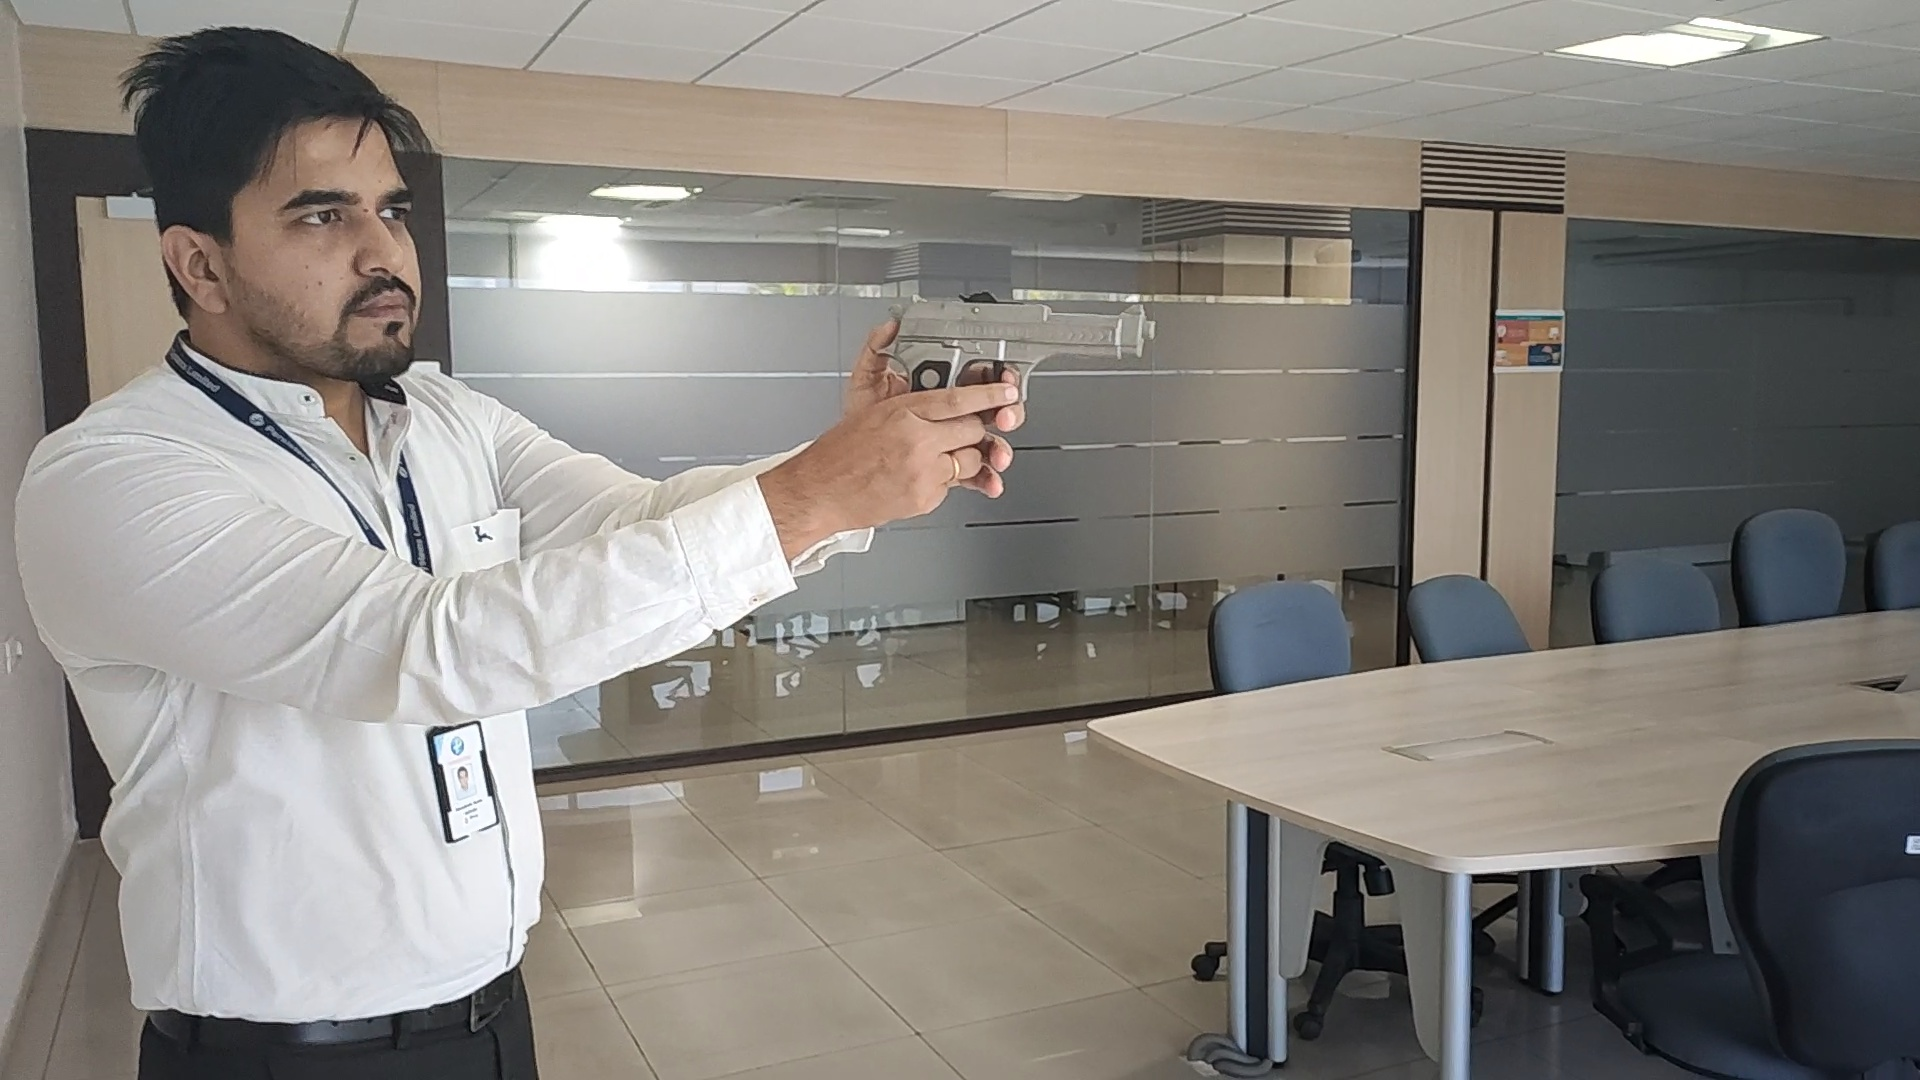gun: (870, 290, 1156, 386)
